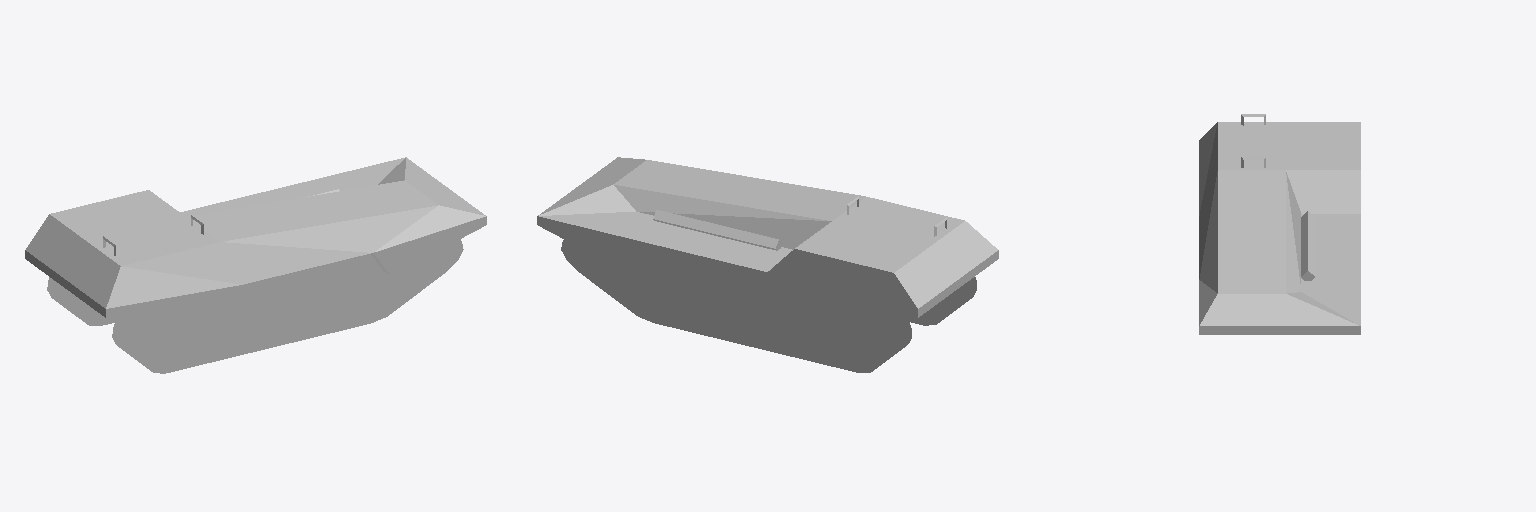
File: treadbaseFR.obj
3 views of the same model, side by side, from view 1: azimuth 30°, elevation 25°; view 2: azimuth 150°, elevation 25°; view 3: azimuth 270°, elevation 25° (orthographic).
Parts seen in each view (by area): view 1: ungrouped; view 2: ungrouped; view 3: ungrouped.
Part boxes in pixels (x1,y1,x2,y2): ungrouped: (25, 157, 486, 373); ungrouped: (537, 157, 998, 372); ungrouped: (1199, 114, 1360, 334).
Size of the model in its own units: 14.9 by 4.76 by 5.46.